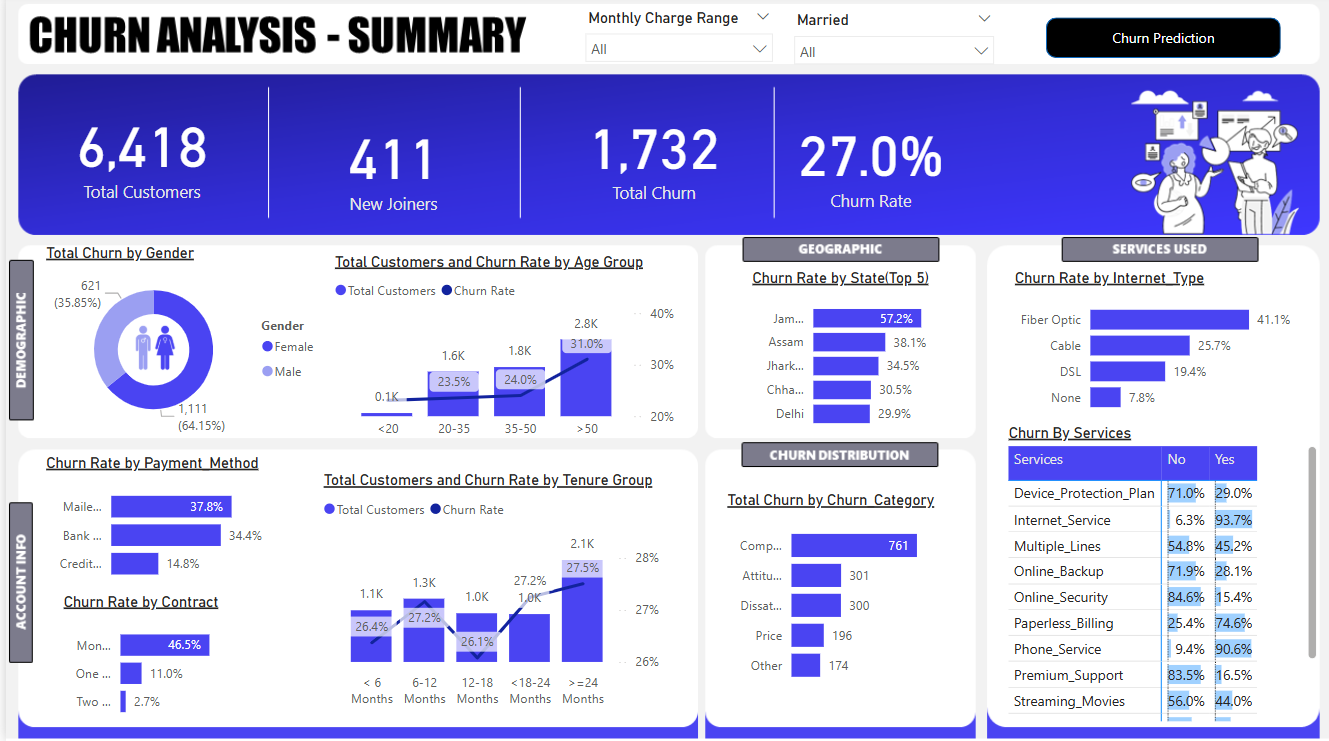

The page's visual inventory and layout, read from the dashboard file:
{"tool":"powerbi","page":{"name":"Summary","canvas":[1280,720],"ordinal":0},"visuals":[{"type":"image","box":[109.8,307.6,68.8,63.9],"z":0},{"type":"card","fields":{"Values":["tbl_Measures.Total Customers"]},"box":[33.8,79.6,195.4,143.6],"z":1000},{"type":"card","fields":{"Values":["tbl_Measures.New Joiners"]},"box":[279.9,77.2,188.2,171.3],"z":2000},{"type":"card","fields":{"Values":["tbl_Measures.Total Churn"]},"box":[524.8,53.1,201.5,199.1],"z":3000},{"type":"card","fields":{"Values":["tbl_Measures.Churn Rate"]},"box":[726.3,41,217.2,237.7],"z":4000},{"type":"donutChart","fields":{"Category":["prod_Churn.Gender"],"Y":["tbl_Measures.Total Churn"]},"box":[33.8,240.1,278.7,188.2],"z":5000},{"type":"lineStackedColumnComboChart","fields":{"Category":["mapping_AgeGrp.Age Group"],"Y":["tbl_Measures.Total Customers"],"Y2":["tbl_Measures.Churn Rate"]},"box":[312.5,248.5,337.8,188.2],"z":6000},{"type":"clusteredBarChart","fields":{"Category":["prod_Churn.Payment_Method"],"Y":["tbl_Measures.Churn Rate"]},"box":[33.8,442.8,222,133.9],"z":7000},{"type":"clusteredBarChart","fields":{"Category":["prod_Churn.Contract"],"Y":["tbl_Measures.Churn Rate"]},"box":[50.7,576.7,187,132.7],"z":8000},{"type":"lineStackedColumnComboChart","fields":{"Category":["mapping_TenureGrp.Custom"],"Y":["tbl_Measures.Total Customers"],"Y2":["tbl_Measures.Churn Rate"]},"box":[301.6,459.7,334.2,235.3],"z":9000},{"type":"clusteredBarChart","title":"Churn Rate by State(Top 5)","fields":{"Category":["prod_Churn.State"],"Y":["tbl_Measures.Churn Rate"]},"box":[715.4,264.2,205.1,164.1],"z":10000},{"type":"clusteredBarChart","fields":{"Category":["prod_Churn.Churn_Category"],"Y":["tbl_Measures.Total Churn"]},"box":[691.3,479,217.2,196.6],"z":11000},{"type":"clusteredBarChart","fields":{"Category":["prod_Churn.Internet_Type"],"Y":["tbl_Measures.Churn Rate"]},"box":[968.8,264.2,281.1,149.6],"z":12000},{"type":"pivotTable","title":"Churn By Services","fields":{"Rows":["prod_Services.Services"],"Columns":["prod_Services.Status"],"Values":["Sum(prod_Services.Churn Status)"]},"box":[962.7,413.8,307.6,292],"z":13000},{"type":"slicer","fields":{"Values":["prod_Churn.Monthly Charge Status"]},"box":[549.1,8.1,201,64.8],"z":14000},{"type":"slicer","fields":{"Values":["prod_Churn.Married"]},"box":[750.1,10.8,213.2,60.7],"z":15000},{"type":"shape","box":[1003.7,21.6,226.6,39.1],"z":15001}]}

Visuals, with their boxes in screenshot pixels (x1, y1, x2, y2), scaled from the page's 1280x720 canvas onto the 1329x741 screenshot:
image: <bbox>114, 317, 185, 382</bbox>
card - tbl_Measures.Total Customers: <bbox>35, 82, 238, 230</bbox>
card - tbl_Measures.New Joiners: <bbox>291, 79, 486, 256</bbox>
card - tbl_Measures.Total Churn: <bbox>545, 55, 754, 260</bbox>
card - tbl_Measures.Churn Rate: <bbox>754, 42, 980, 287</bbox>
donutChart - prod_Churn.Gender x tbl_Measures.Total Churn: <bbox>35, 247, 324, 441</bbox>
lineStackedColumnComboChart - mapping_AgeGrp.Age Group x tbl_Measures.Total Customers: <bbox>324, 256, 675, 449</bbox>
clusteredBarChart - prod_Churn.Payment_Method x tbl_Measures.Churn Rate: <bbox>35, 456, 266, 594</bbox>
clusteredBarChart - prod_Churn.Contract x tbl_Measures.Churn Rate: <bbox>53, 594, 247, 730</bbox>
lineStackedColumnComboChart - mapping_TenureGrp.Custom x tbl_Measures.Total Customers: <bbox>313, 473, 660, 715</bbox>
"Churn Rate by State(Top 5)" clusteredBarChart: <bbox>743, 272, 956, 441</bbox>
clusteredBarChart - prod_Churn.Churn_Category x tbl_Measures.Total Churn: <bbox>718, 493, 943, 695</bbox>
clusteredBarChart - prod_Churn.Internet_Type x tbl_Measures.Churn Rate: <bbox>1006, 272, 1298, 426</bbox>
"Churn By Services" pivotTable: <bbox>1000, 426, 1319, 726</bbox>
slicer - prod_Churn.Monthly Charge Status: <bbox>570, 8, 779, 75</bbox>
slicer - prod_Churn.Married: <bbox>779, 11, 1000, 74</bbox>
shape: <bbox>1042, 22, 1277, 62</bbox>
